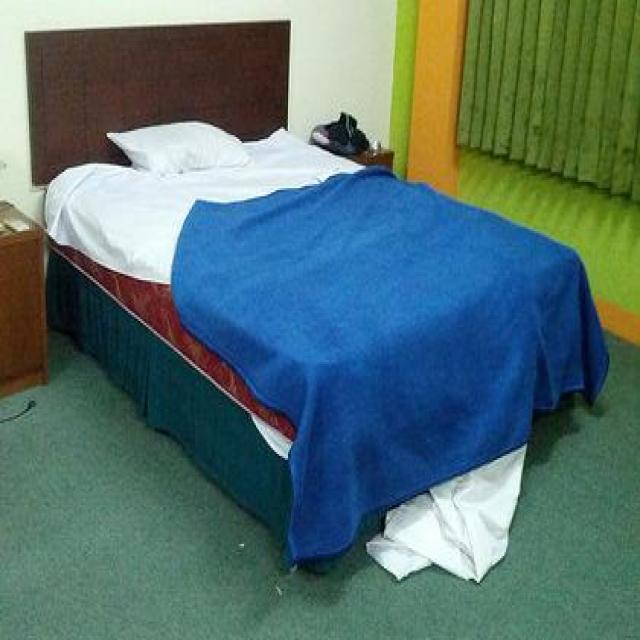bed: (22, 19, 582, 590)
